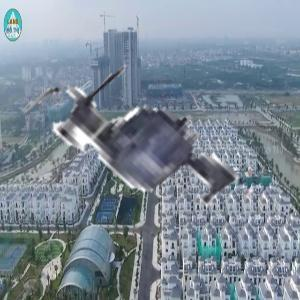drone: (6, 29, 274, 297)
